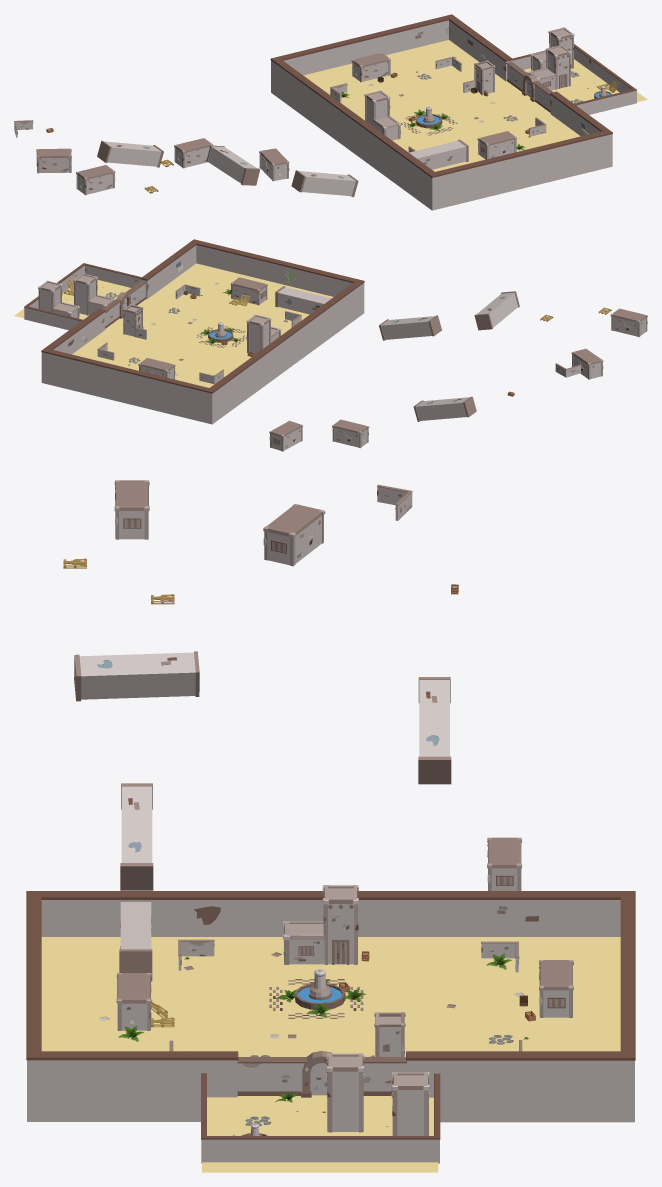
The model's file is our_game_map.glb.
3 views of the same model, one above another, from view 1: azimuth 30°, elevation 25°; view 2: azimuth 150°, elevation 25°; view 3: azimuth 270°, elevation 25° (orthographic). The views are drawn at different scales.
Visible parts, largest first — view 1: wall, Plane.001, wall2, Cube.002, Cube.005, L build3.001, Cube.003, L build3, Cube.001, gate, build2.003, build2.001 (+7 smaller); view 2: wall, Plane.001, wall2, Cube.005, Cube.002, L build3.001, Cube.003, Cube.001, L build3, L build3.002, gate, build2.004 (+7 smaller); view 3: Plane.001, wall, wall2, Cube.003, L build3, gate, Cube.002, Cube.005, L build3.001, build2.002, L build3.002, Cube.001 (+7 smaller).
Boxes of the visible parts, x1,y1,x2,y2 form: wall: (270,14,612,210); Plane.001: (303,40,647,171); wall2: (512,44,636,114); Cube.002: (291,170,358,197); Cube.005: (97,140,163,167); L build3.001: (527,45,571,90); Cube.003: (206,145,260,185); L build3: (364,90,401,140); Cube.001: (409,139,468,169); gate: (506,61,553,112); build2.003: (76,165,115,195); build2.001: (351,52,390,82); wall: (41,239,364,424); Plane.001: (14,263,333,387); wall2: (24,263,141,330); Cube.005: (413,396,476,421); Cube.002: (379,315,441,340); L build3.001: (73,273,115,315); Cube.003: (474,291,519,330); Cube.001: (275,286,331,314); L build3: (246,314,281,354); L build3.002: (38,280,79,318); gate: (102,280,146,328); build2.004: (332,419,369,448); Plane.001: (41,937,620,1172); wall: (26,891,635,1122); wall2: (201,1073,440,1163); Cube.003: (74,651,199,701); L build3: (283,885,358,964); gate: (237,1050,406,1097); Cube.002: (120,783,153,890); Cube.005: (418,677,451,784); L build3.001: (326,1053,364,1132); build2.002: (263,504,325,566); L build3.002: (391,1072,429,1135); Cube.001: (119,902,152,981).
Bounding box in the file's own units: 364 × 80.26 × 173.
Materials: 11 (4 with a texture image).
